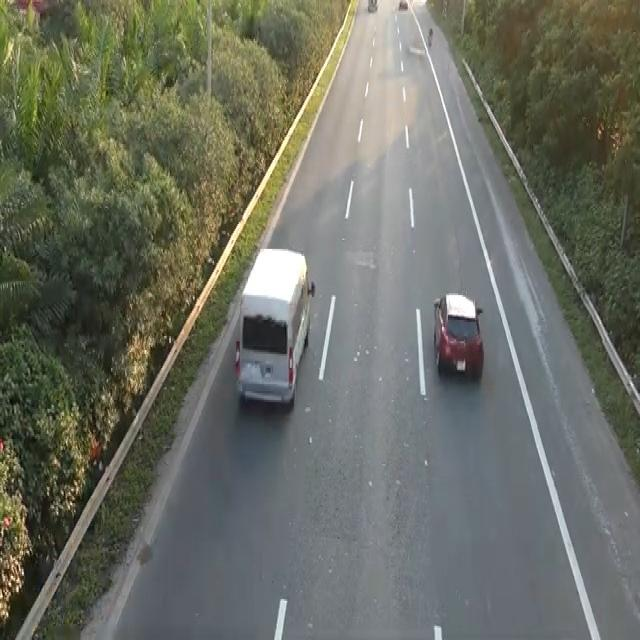bus: (431, 288, 485, 380)
car: (366, 0, 378, 12)
jeep: (232, 242, 315, 410)
minibus: (426, 25, 434, 48)
